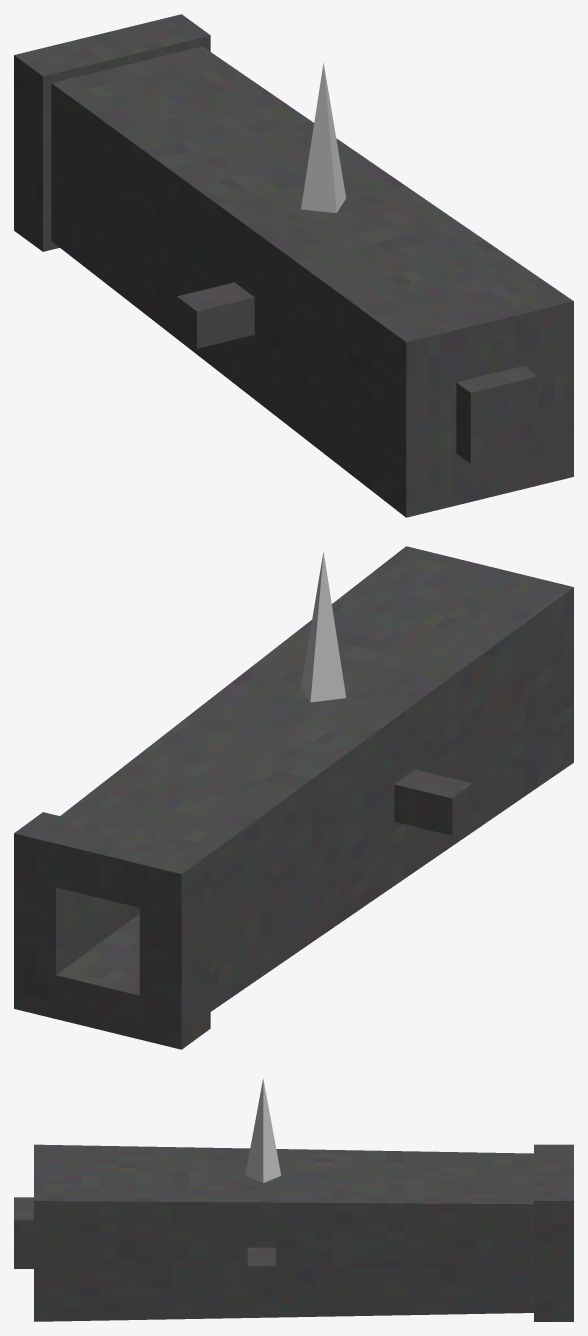
The model's file is cannonTest.obj.
3 views of the same model, one above another, from view 1: azimuth 30°, elevation 25°; view 2: azimuth 150°, elevation 25°; view 3: azimuth 270°, elevation 25° (orthographic). The views are drawn at different scales.
Parts seen in each view (by area): view 1: Cube_Cube.001; view 2: Cube_Cube.001; view 3: Cube_Cube.001.
Part boxes in pixels (x1,y1,x2,y2): Cube_Cube.001: (14,14,573,517); Cube_Cube.001: (14,546,573,1049); Cube_Cube.001: (14,1079,573,1321).
Bounding box in the file's own units: 0.8161 × 0.8917 × 2.1.
